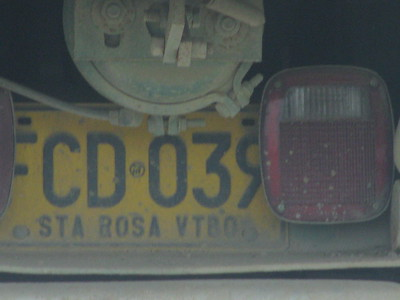placa_carro: (1, 91, 304, 274)
